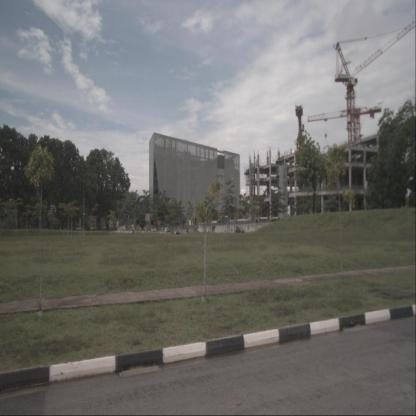vehicle-car: (235, 226, 245, 234)
